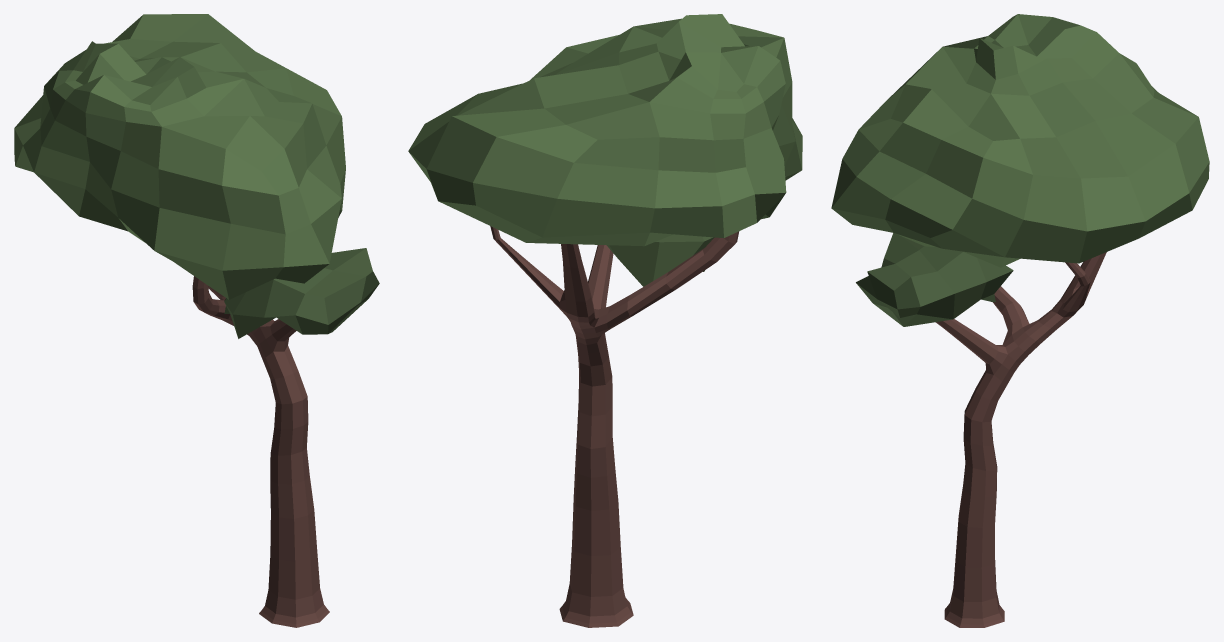
File: tree2.gltf
3 views of the same model, side by side, from view 1: azimuth 30°, elevation 25°; view 2: azimuth 150°, elevation 25°; view 3: azimuth 270°, elevation 25° (orthographic). The views are drawn at different scales.
Parts seen in each view (by area): view 1: tree2; view 2: tree2; view 3: tree2.
Boxes of the visible parts, bbox=[...] form: tree2: bbox=[14, 14, 379, 627]; tree2: bbox=[408, 14, 802, 627]; tree2: bbox=[831, 14, 1209, 627].
Size of the model in its own units: 1.58 by 2.78 by 1.8.
